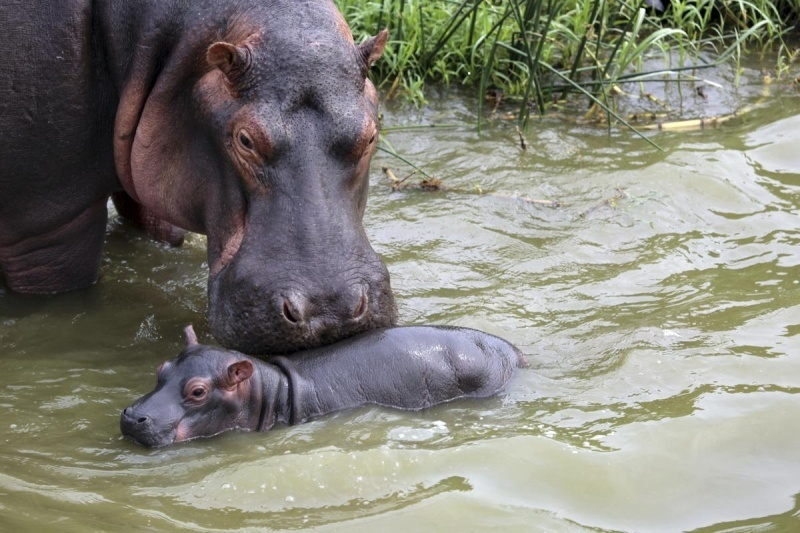hipopotamo: (0, 4, 418, 356), (109, 318, 532, 448)
